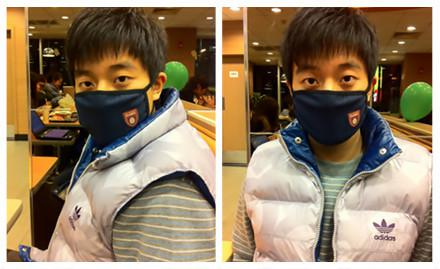OK: (73, 60, 158, 145), (292, 60, 372, 142)
